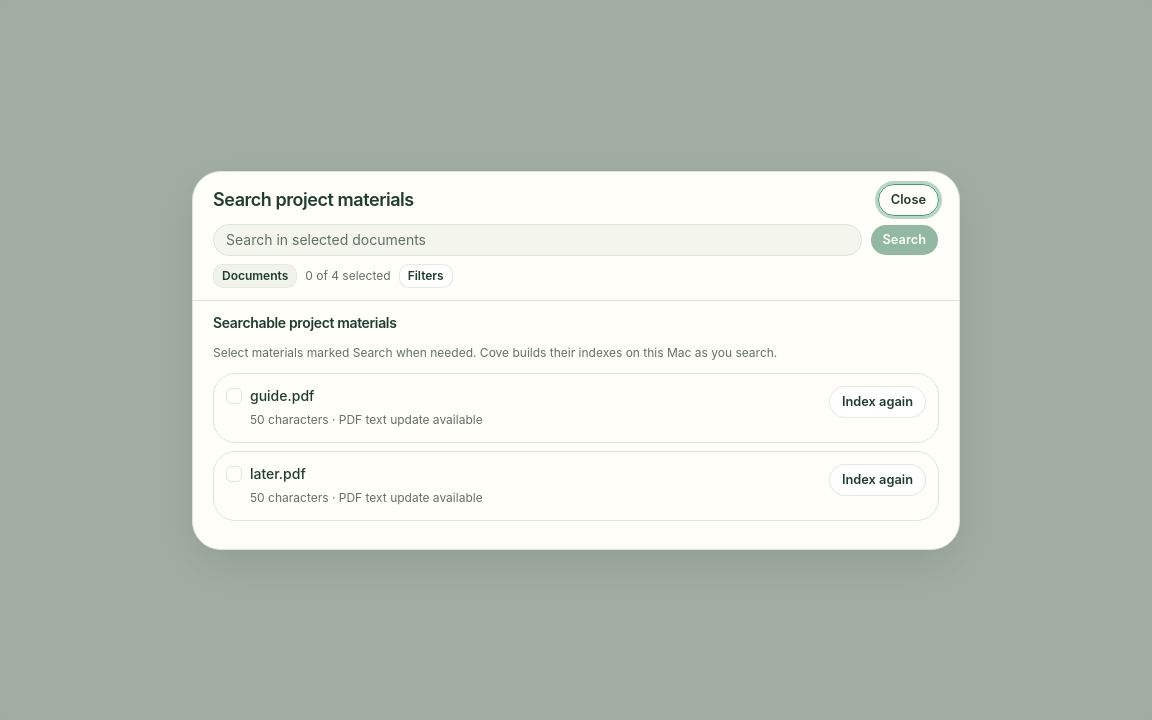
Test case: Project search refreshes reindexed PDF metadata when it succeeds
Click the checkbox named "guide.pdf" next to "guide.pdf". click: (234, 396)
box: [226,388,242,404]
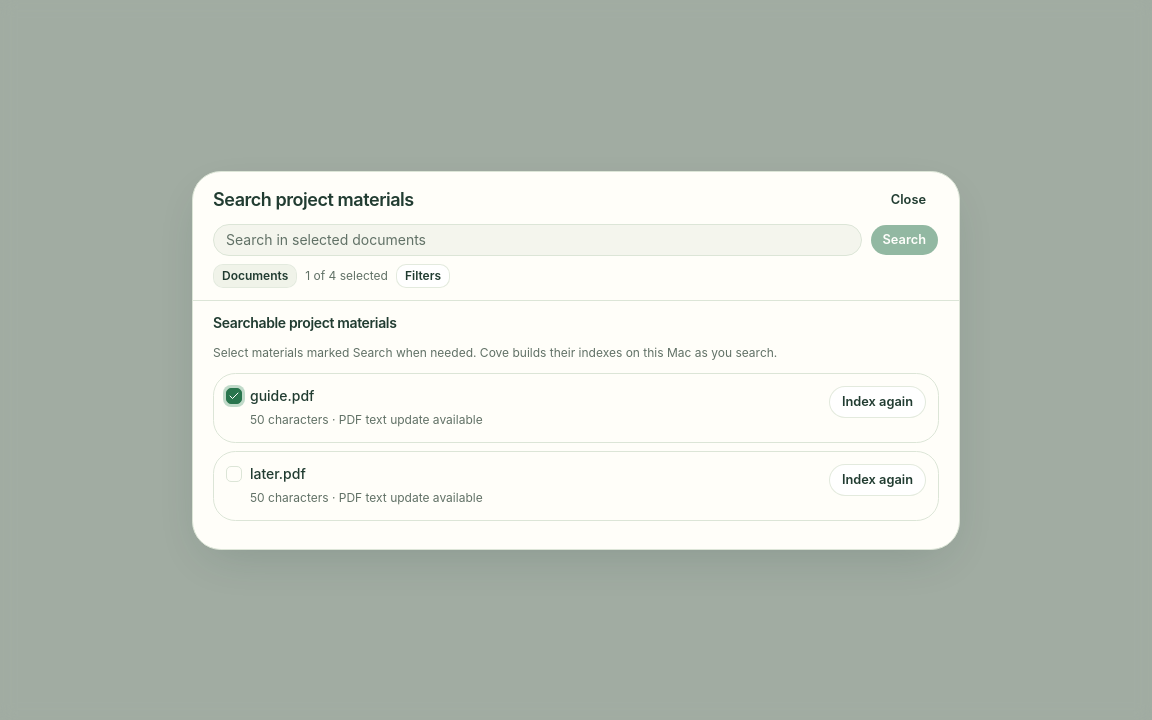
Click the checkbox named "later.pdf" next to "later.pdf". click: (234, 474)
box: [226,466,242,482]
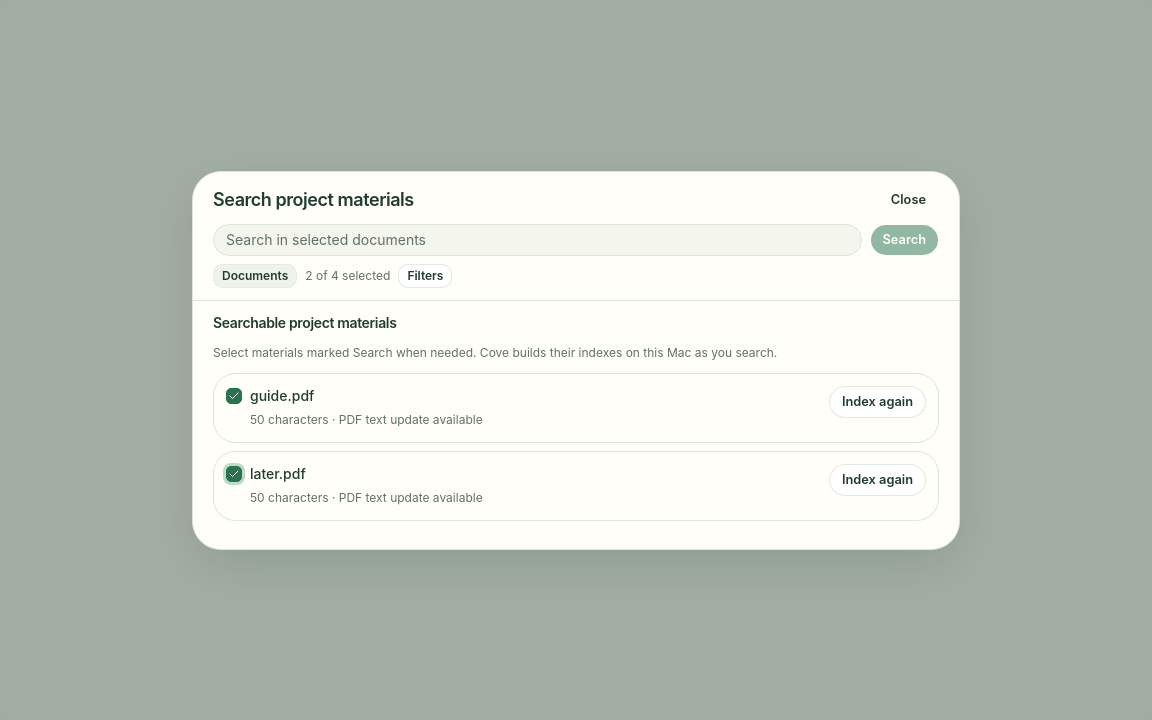
Expected: the number of buttons "Index again" is 2, [829,386,926,418]; [829,464,926,496]
Type "recovery" into the field named "What are you looking for?". click: (537, 240)
box: [213,224,862,256]
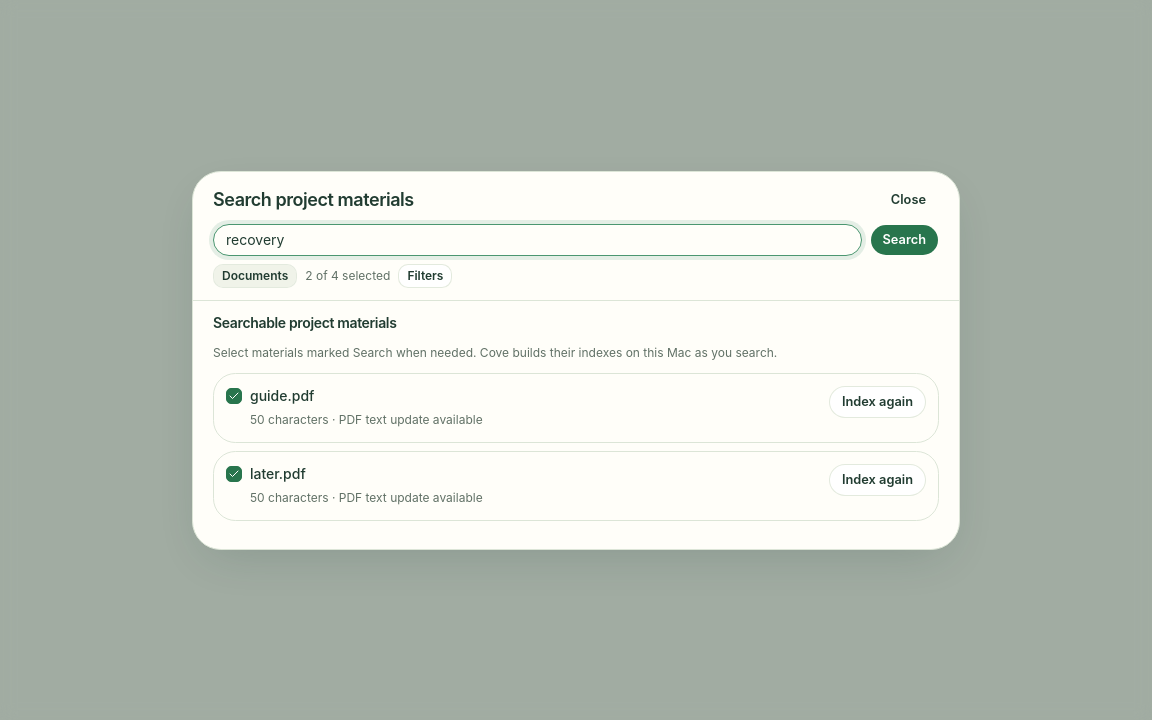
Click the button with aria-label "Search selected documents". click: (904, 240)
box: [870,224,939,256]
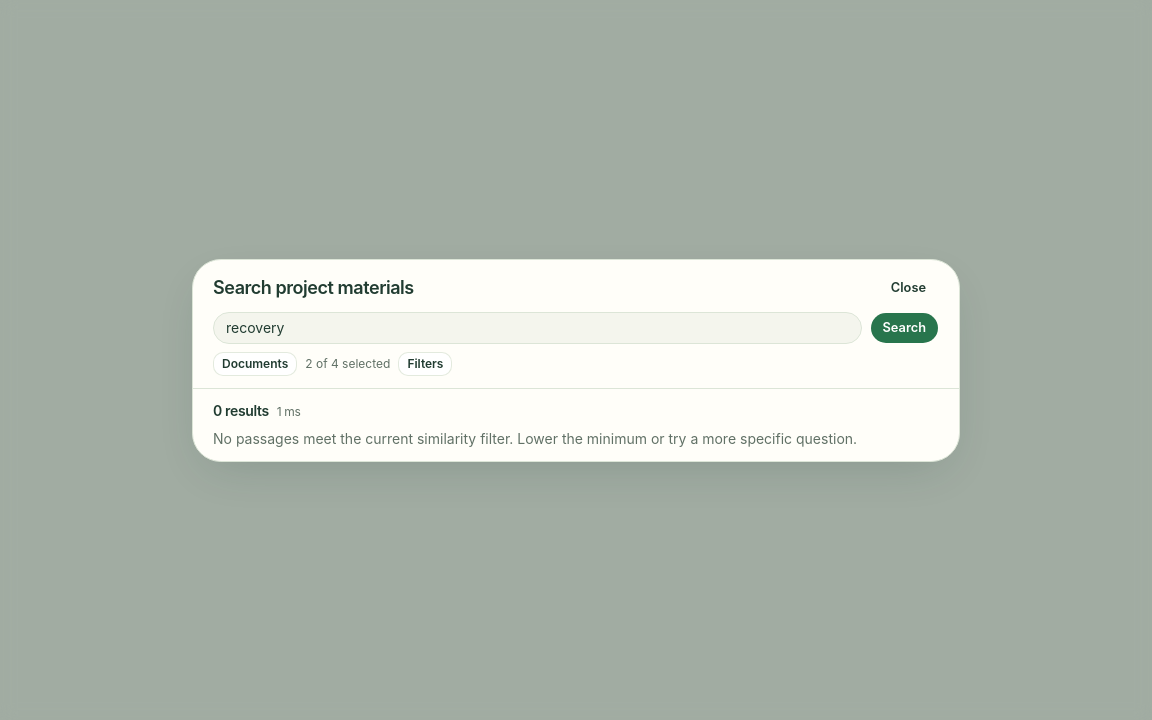
Expected: the text "No passages meet" is shown, [213,430,857,446]
Click the button "Documents". click: (255, 364)
box: [213,352,297,376]
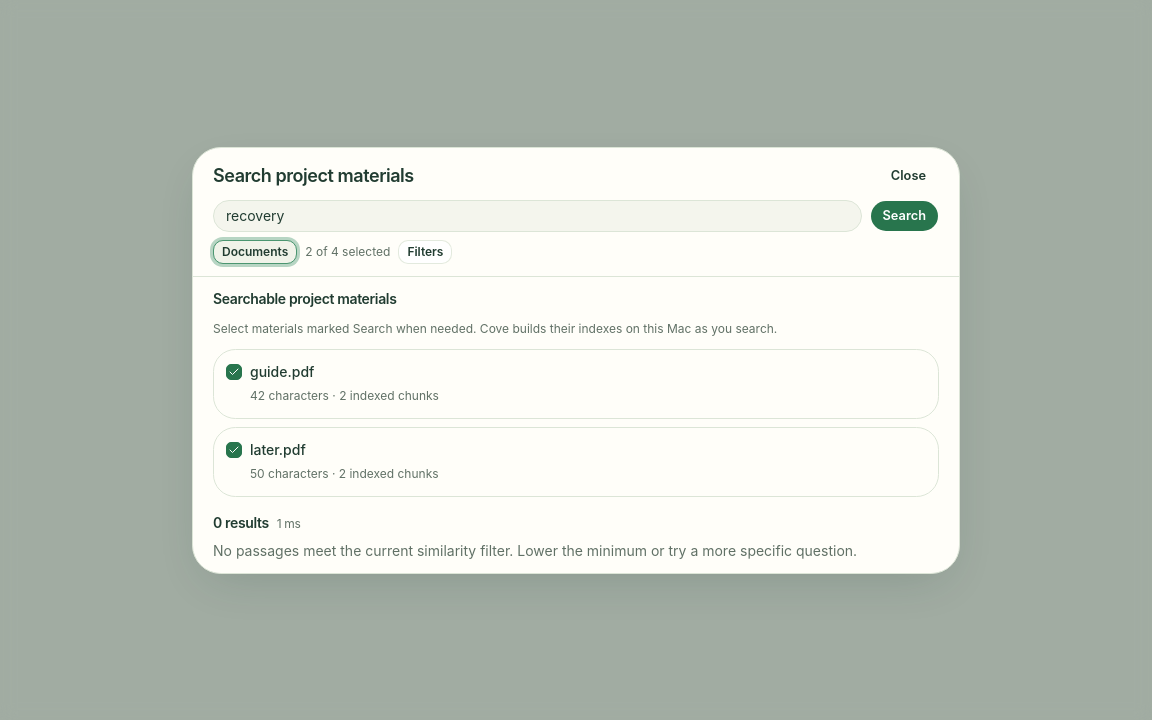
Expected: the text "42 characters · 2 indexed chunks" is shown, [250,388,439,402]
